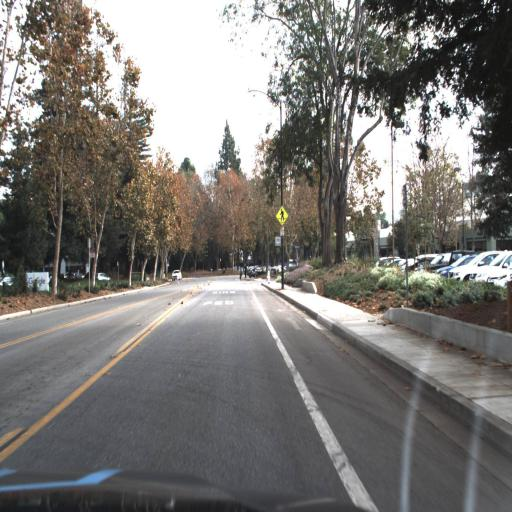car: (90, 265, 111, 288), (170, 267, 182, 282)
